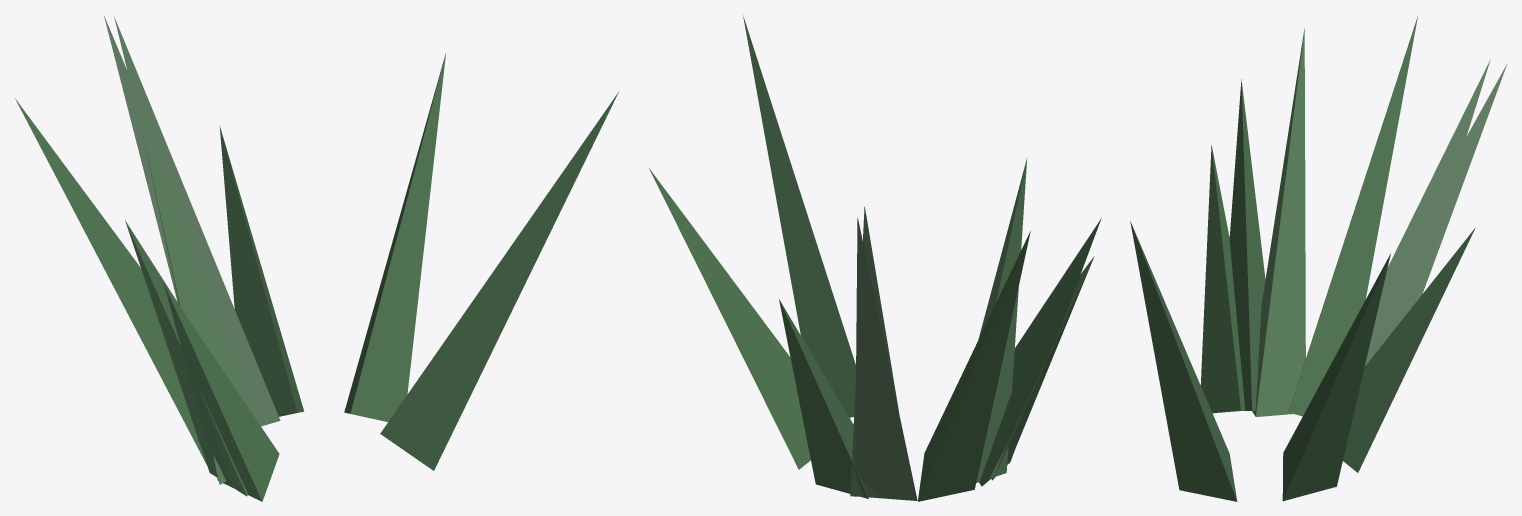
File: grass.glb
The picture shows the model from 3 angles, left to right: view 1: azimuth 30°, elevation 25°; view 2: azimuth 150°, elevation 25°; view 3: azimuth 270°, elevation 25°; orthographic projection. The views are drawn at different scales.
Parts seen in each view (by area): view 1: moss_d11, moss_d11.001, moss_d10.001, moss_d17, moss_d10, moss_l4, moss_l18, moss_d12, moss_l19; view 2: moss_d11, moss_d10, moss_l19, moss_d11.001, moss_d17, moss_d12, moss_l4, moss_l18, moss_d10.001; view 3: moss_l4, moss_d10, moss_d11, moss_d11.001, moss_d10.001, moss_d12, moss_l18, moss_d17, moss_l19.
Boxes of the visible parts, x1=… form: moss_d11: x1=380, y1=92, x2=618, y2=470; moss_d11.001: x1=344, y1=52, x2=446, y2=421; moss_d10.001: x1=163, y1=283, x2=279, y2=501; moss_d17: x1=219, y1=126, x2=304, y2=416; moss_d10: x1=15, y1=98, x2=206, y2=464; moss_l4: x1=137, y1=109, x2=258, y2=484; moss_l18: x1=114, y1=16, x2=280, y2=426; moss_d12: x1=125, y1=220, x2=247, y2=496; moss_l19: x1=104, y1=16, x2=274, y2=425; moss_d11: x1=743, y1=15, x2=855, y2=417; moss_d10: x1=918, y1=231, x2=1030, y2=501; moss_l19: x1=855, y1=217, x2=917, y2=500; moss_d11.001: x1=649, y1=168, x2=810, y2=469; moss_d17: x1=779, y1=299, x2=868, y2=498; moss_d12: x1=979, y1=218, x2=1101, y2=486; moss_l4: x1=976, y1=157, x2=1027, y2=482; moss_l18: x1=850, y1=206, x2=898, y2=497; moss_d10.001: x1=991, y1=256, x2=1094, y2=480; moss_l4: x1=1252, y1=28, x2=1305, y2=416; moss_d10: x1=1288, y1=15, x2=1418, y2=416; moss_d11: x1=1130, y1=221, x2=1237, y2=501; moss_d11.001: x1=1282, y1=253, x2=1390, y2=501; moss_d10.001: x1=1200, y1=145, x2=1245, y2=413; moss_d12: x1=1229, y1=79, x2=1265, y2=410; moss_l18: x1=1365, y1=59, x2=1490, y2=365; moss_d17: x1=1343, y1=227, x2=1475, y2=472; moss_l19: x1=1414, y1=63, x2=1507, y2=304.
Size of the model in its own units: 0.6753 by 0.5328 by 0.5086.
